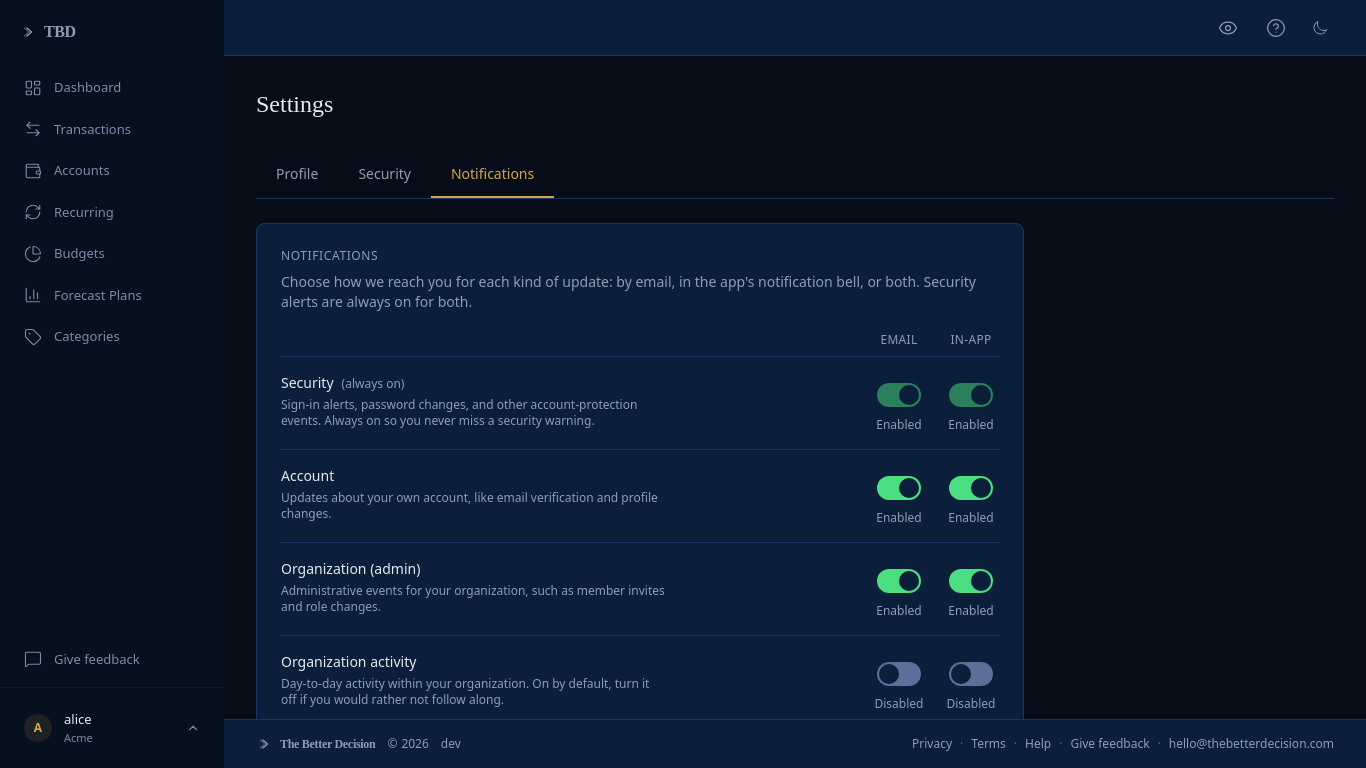
Test: Notification preferences settings page › toggles a category and PUTs the full preference shape
Click the switch named "organization activity email notifications": (899, 674) [877,652,921,696]
(page scrolled)
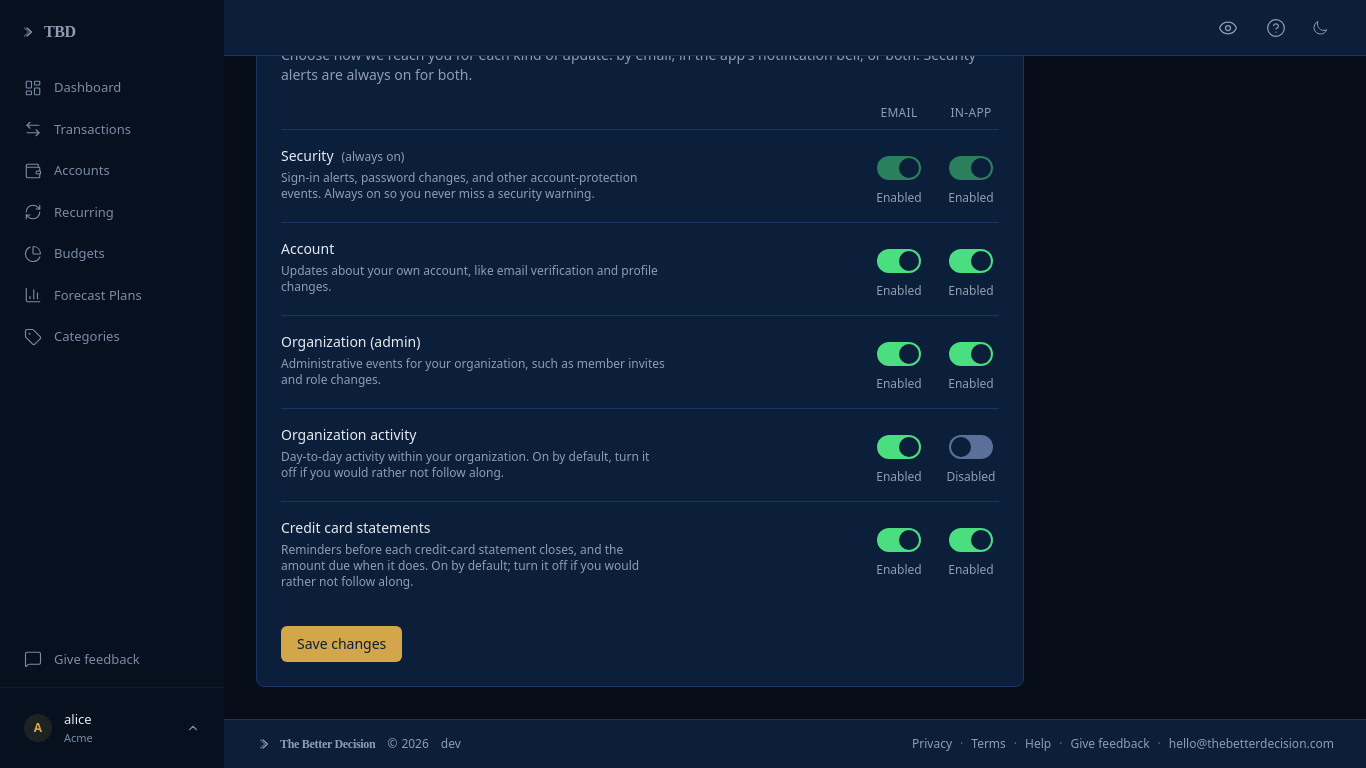
Check: the switch named "organization activity email notifications" is checked, box [877,425,921,469]
Click the button "Save changes": (342, 644) [281,626,402,662]
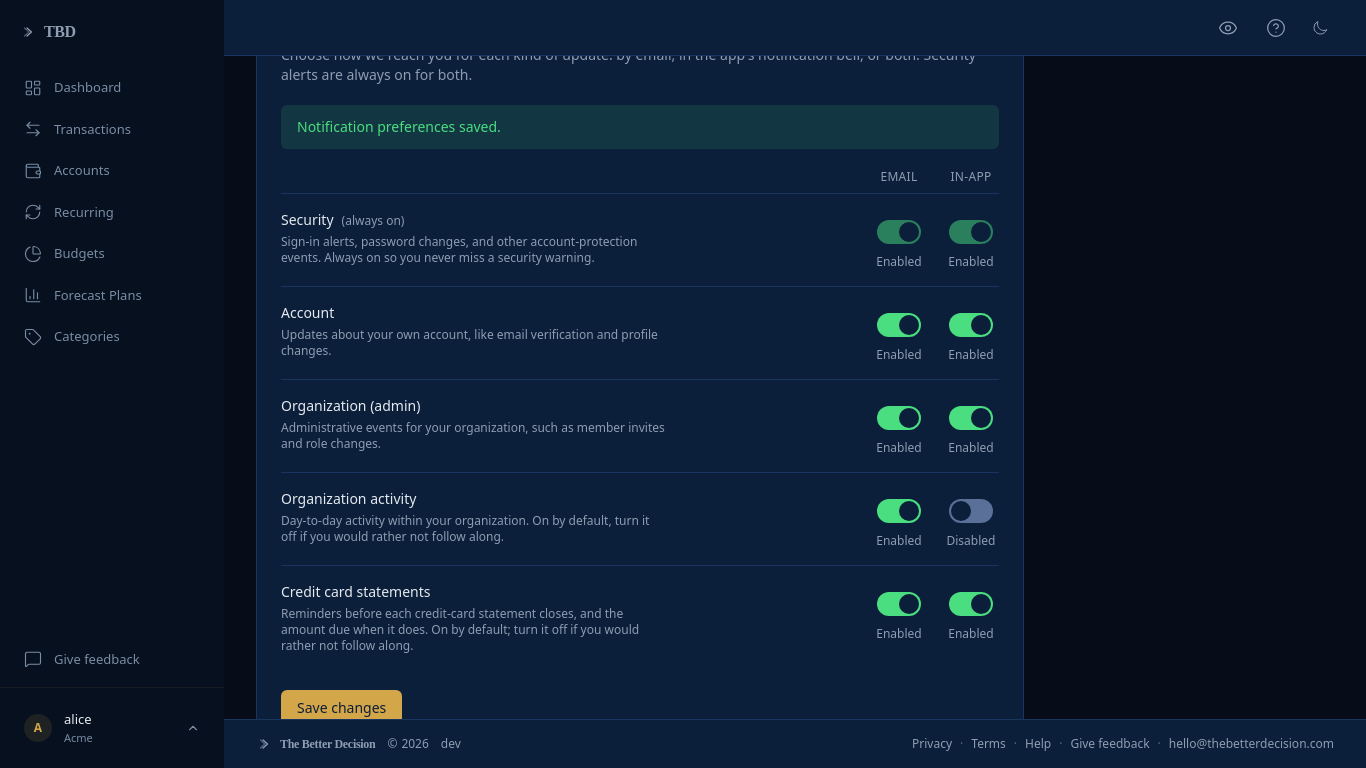
Check: the text "Notification preferences saved." is shown, box [281,105,999,149]
